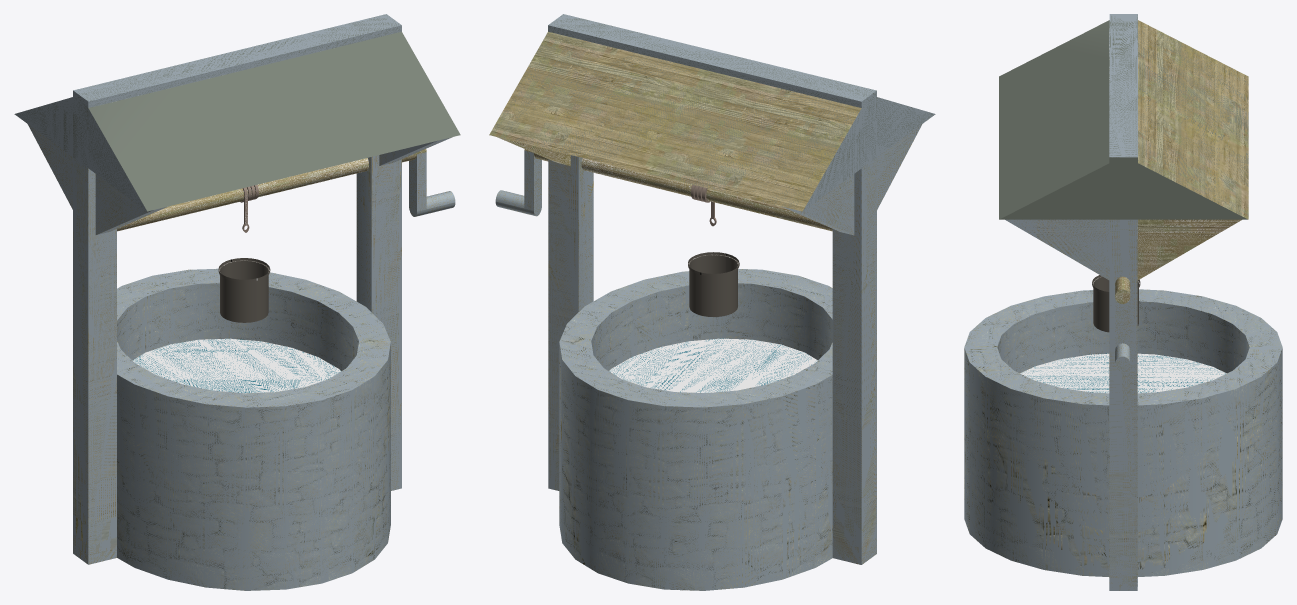
File: Well.fbx
The picture shows the model from 3 angles, left to right: view 1: azimuth 30°, elevation 25°; view 2: azimuth 150°, elevation 25°; view 3: azimuth 270°, elevation 25°; orthographic projection. The views are drawn at different scales.
Parts seen in each view (by area): view 1: Model, Group6; view 2: Model; view 3: Model, Group6.
Boxes of the visible parts, x1,y1,x2,y2 form: Model: [14, 14, 455, 590]; Group6: [88, 31, 460, 211]; Model: [489, 14, 935, 590]; Model: [964, 14, 1282, 590]; Group6: [999, 20, 1109, 219].
Bounding box in the file's own units: 112 × 134 × 88.88.
